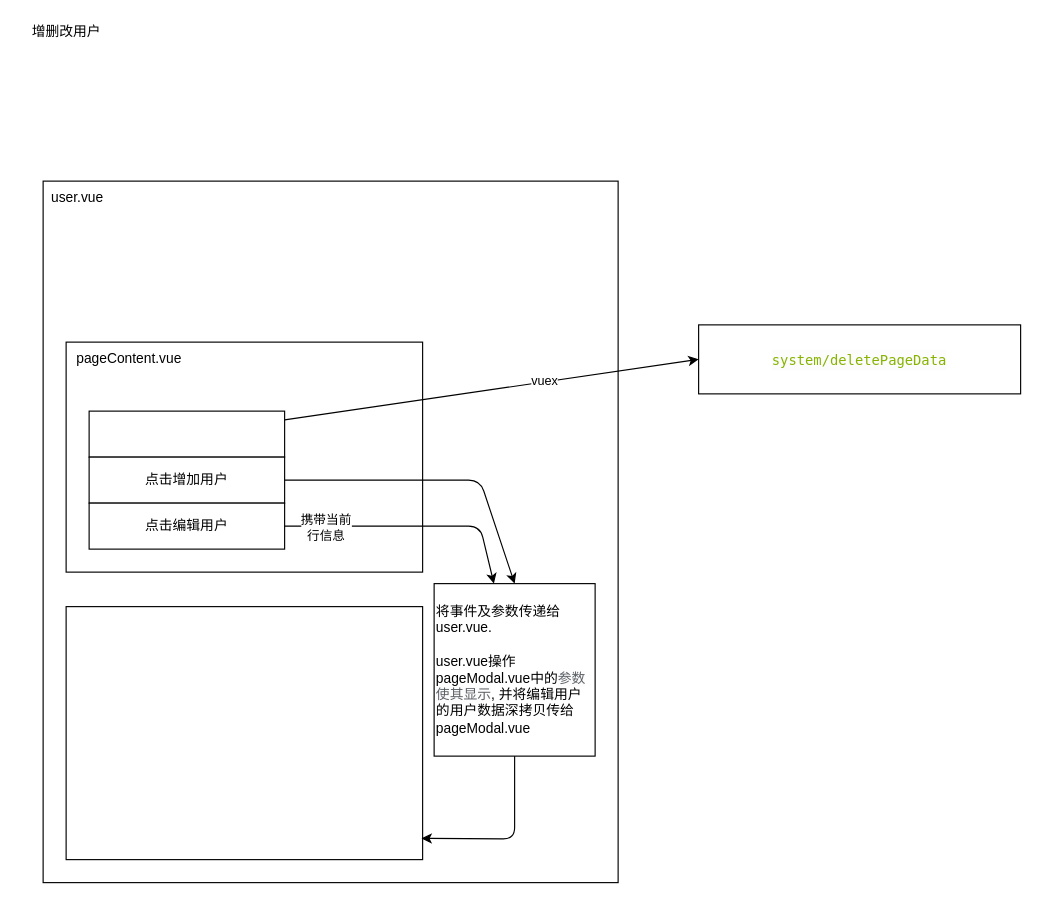
Image size: 1041x903. Some labels were removed from this diagram. The shapes that lost their labels are listed below. From the top down, each one's box as (x1, y1, x2, y2) in pixels, then its label:
(88, 410, 285, 457): 点击删除用户
(65, 605, 423, 860): pageModal.vue
